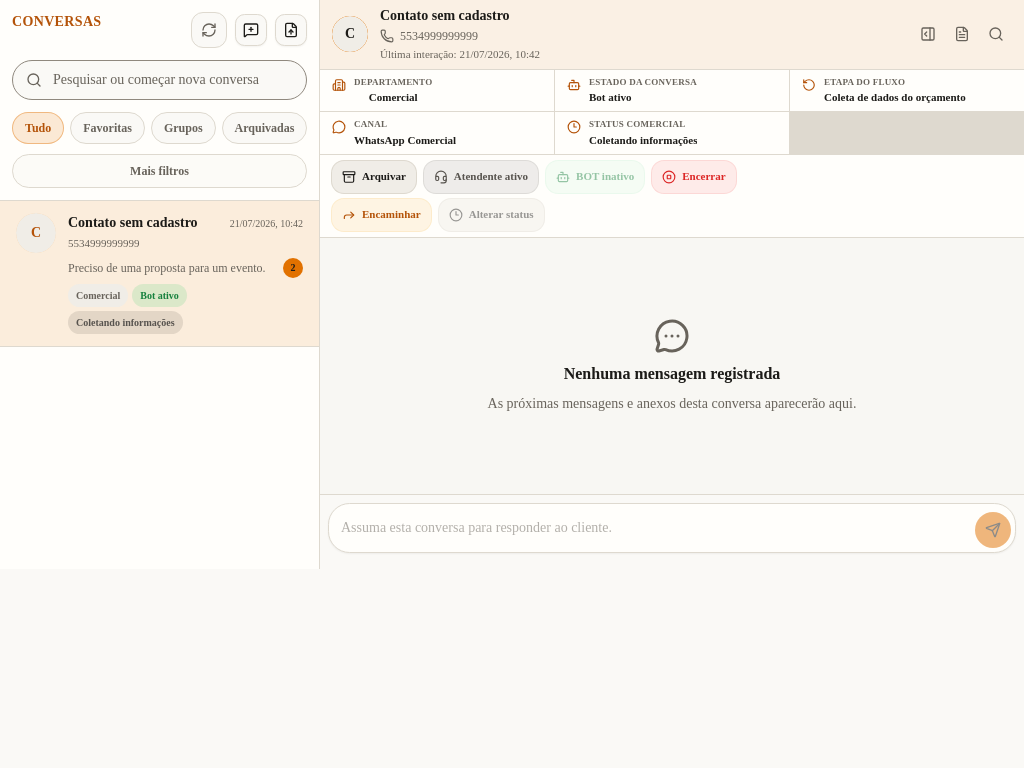
Scenario: ConversationWorkspace › offers a prefilled client registration in a new tab when the contact is unknown
The width and height of the screenshot is (1024, 768).
Click the button with aria-label "Abrir cadastro de Contato sem cadastro".
click(350, 34)  # box [332, 6, 904, 62]
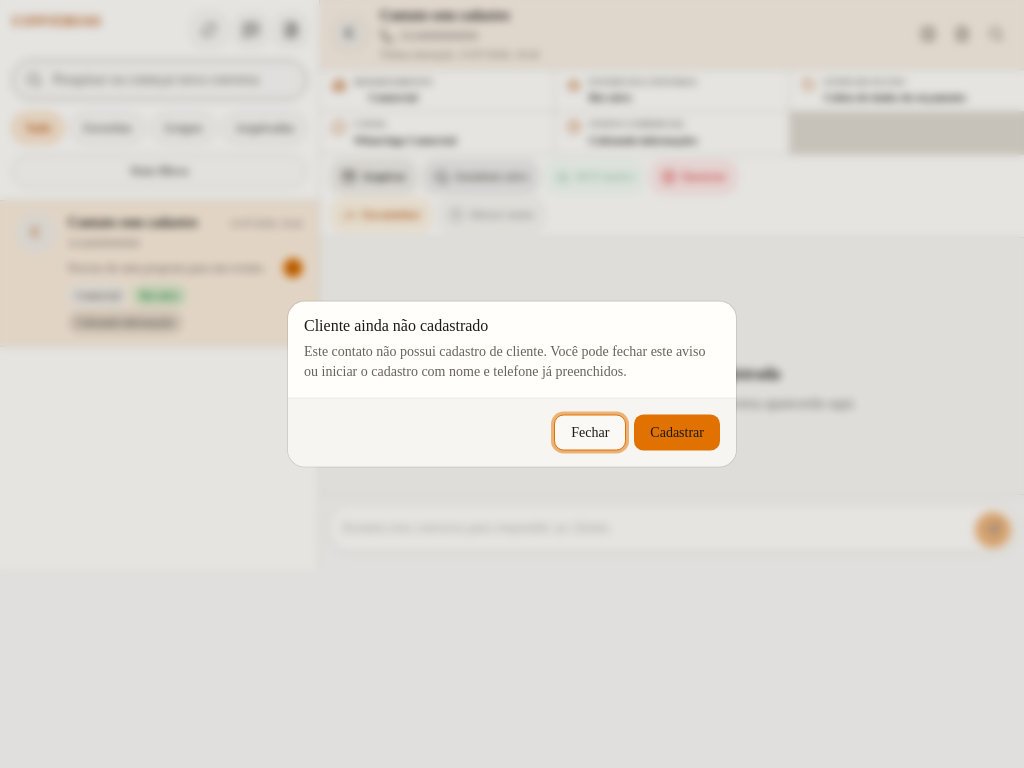
Check: the dialog is shown, box [288, 302, 736, 466]
Check: the button "Fechar" is shown, box [554, 414, 626, 450]
